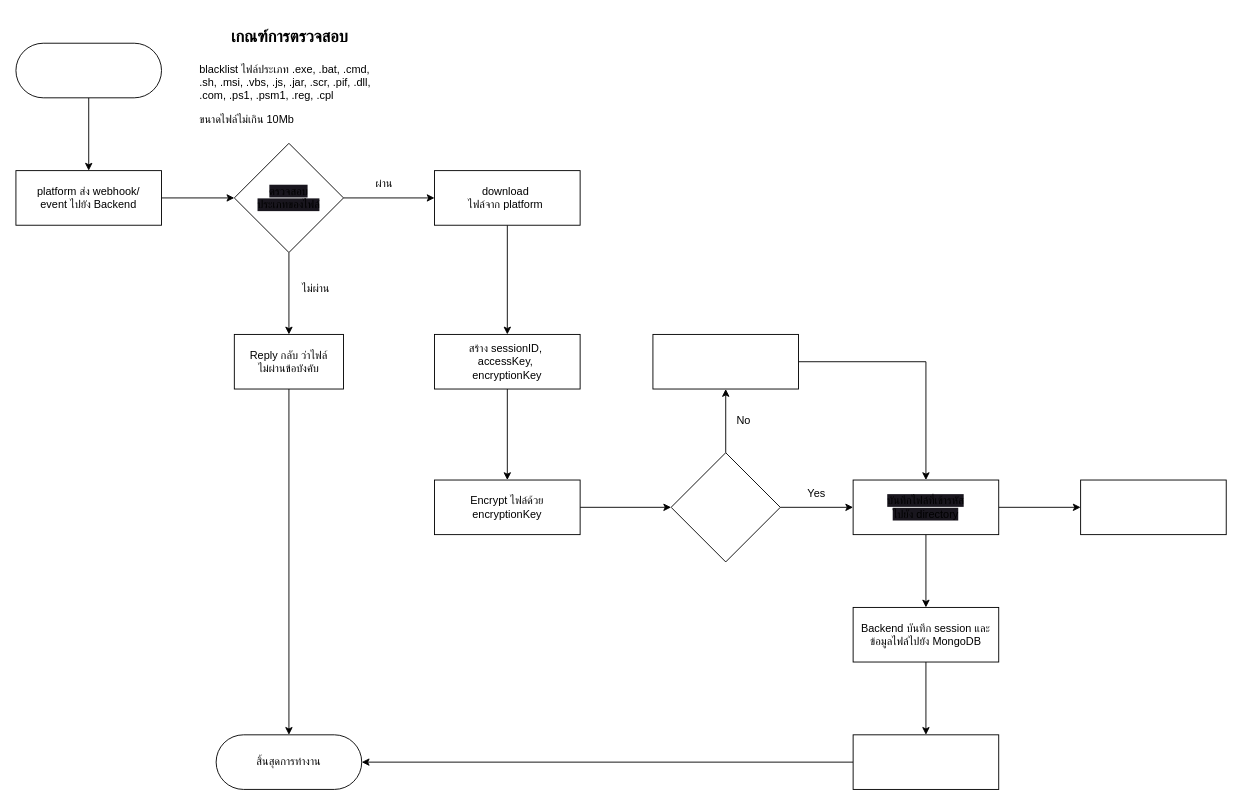
Image size: 1242x805. Some labels were removed from this diagram. The centre of each missing label's shape, as x and y in pixels:
"Bot ตอบกลับ User และส่ง accessKey กลับไปให้ User" goes at pixel 925 761.
"User ส่งไฟล์ไปยัง Bot (LINE/Discord)" goes at pixel 88 70.
"ทำการ ลบ ไฟล์ต้นฉบับ" goes at pixel 1153 507.
"มี directory?" goes at pixel 725 507.
"สร้าง directory" goes at pixel 725 361.
